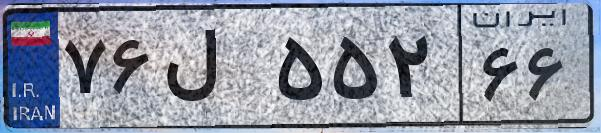2: (385, 28, 445, 110)
5: (270, 28, 330, 110), (330, 28, 385, 110)
6: (475, 38, 525, 113), (525, 38, 570, 115), (110, 28, 158, 98)
7: (57, 26, 110, 100)
ل: (158, 20, 270, 120)
